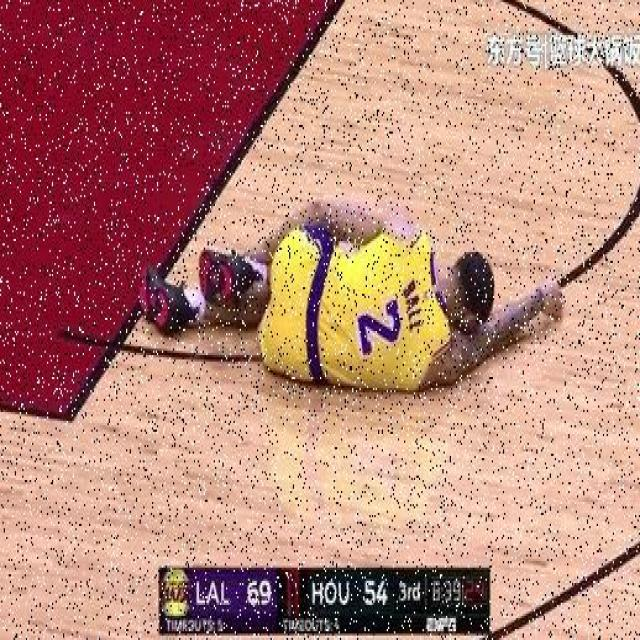fall: (154, 191, 558, 388)
